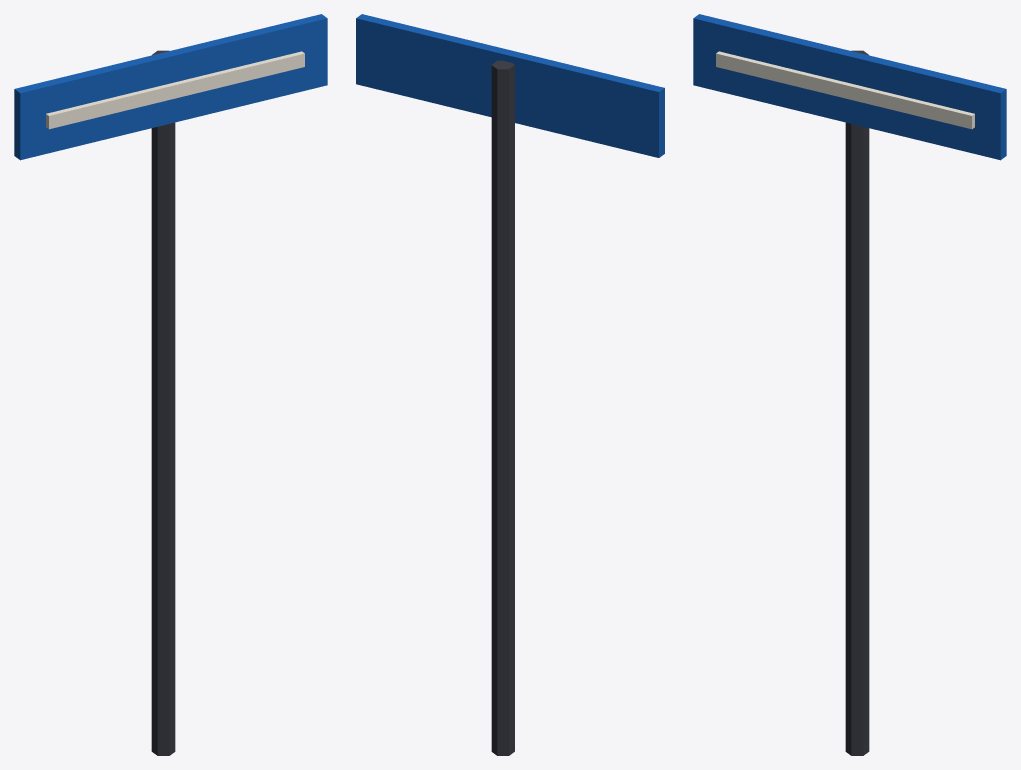
The model's file is road_sign_street.glb.
The picture shows the model from 3 angles, left to right: view 1: azimuth 30°, elevation 25°; view 2: azimuth 150°, elevation 25°; view 3: azimuth 330°, elevation 25°; orthographic projection.
Parts seen in each view (by area): view 1: road_sign_street; view 2: road_sign_street; view 3: road_sign_street.
Part boxes in pixels (x1,y1,x2,y2): road_sign_street: (14,14,327,755); road_sign_street: (356,14,664,755); road_sign_street: (693,14,1006,755).
Size of the model in its own units: 1.2 by 2.62 by 0.13.
